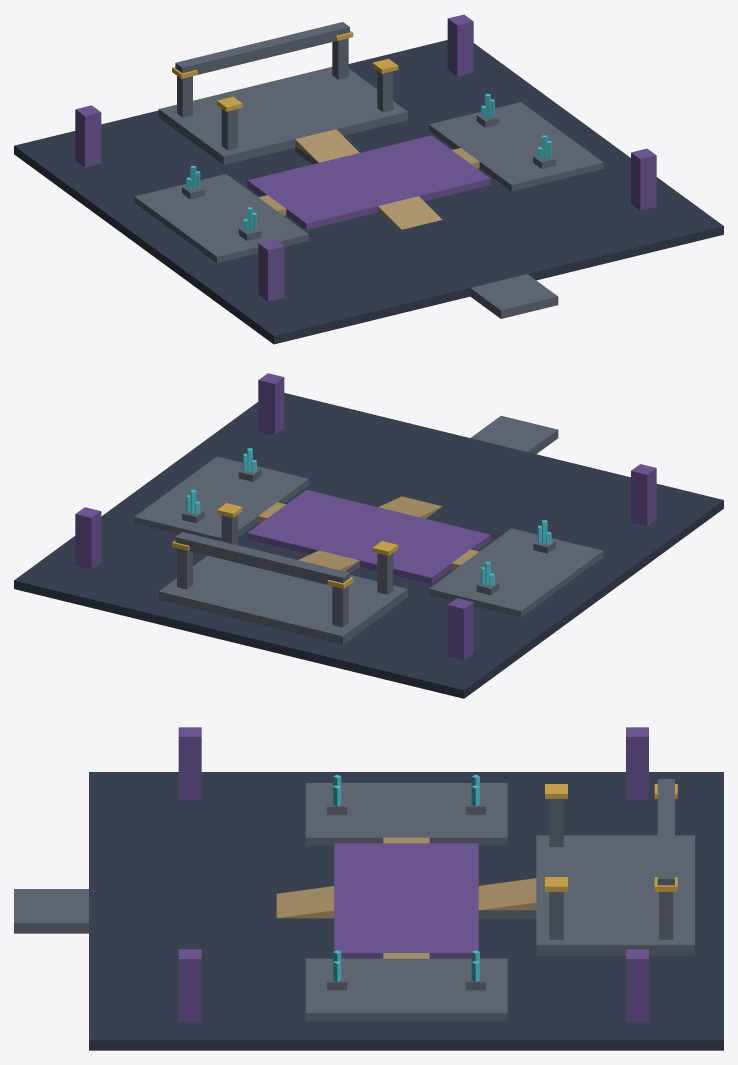
Rendered from Ashen.fbx.
3 renders of one model, top to bottom at view 1: azimuth 30°, elevation 25°; view 2: azimuth 150°, elevation 25°; view 3: azimuth 270°, elevation 25°, orthographic. The views are drawn at different scales.
Visible parts, largest first — view 1: Island, BossSanctum, CentralSanctum, SideCourt.001, SideCourt, WardenArch, Landing, BrokenSpire, BrokenSpire.002, BrokenSpire.001, BrokenSpire.003, SanctumAscent (+5 smaller); view 2: Island, CentralSanctum, BossSanctum, SideCourt, SideCourt.001, WardenArch, Landing, BrokenSpire, BrokenSpire.002, BrokenSpire.003, BrokenSpire.001, SanctumAscent (+4 smaller); view 3: Island, CentralSanctum, BossSanctum, SideCourt.001, SideCourt, Landing, WardenArch, BrokenSpire.001, BrokenSpire.003, SanctumAscent, WardenAscent, BrokenSpire (+5 smaller).
Part boxes in pixels (<box>): Island: <box>14,40,723,344</box>; BossSanctum: <box>158,67,407,164</box>; CentralSanctum: <box>247,135,490,229</box>; SideCourt.001: <box>429,102,603,191</box>; SideCourt: <box>134,174,308,263</box>; WardenArch: <box>175,22,349,74</box>; Landing: <box>470,274,558,318</box>; BrokenSpire: <box>75,105,101,167</box>; BrokenSpire.002: <box>447,14,473,76</box>; BrokenSpire.001: <box>258,239,284,301</box>; BrokenSpire.003: <box>631,148,656,210</box>; SanctumAscent: <box>378,196,442,229</box>; Island: <box>14,393,723,698</box>; CentralSanctum: <box>247,490,490,584</box>; BossSanctum: <box>158,555,407,644</box>; SideCourt: <box>429,528,603,617</box>; SideCourt.001: <box>134,456,308,541</box>; WardenArch: <box>175,532,349,584</box>; Landing: <box>470,415,558,454</box>; BrokenSpire: <box>447,598,473,660</box>; BrokenSpire.002: <box>75,507,101,569</box>; BrokenSpire.003: <box>258,373,284,435</box>; BrokenSpire.001: <box>631,464,656,525</box>; SanctumAscent: <box>378,496,441,518</box>; Island: <box>89,772,723,1050</box>; CentralSanctum: <box>334,843,478,958</box>; BossSanctum: <box>536,835,694,955</box>; SideCourt.001: <box>305,958,507,1021</box>; SideCourt: <box>305,783,507,845</box>; Landing: <box>14,889,88,933</box>; WardenArch: <box>657,779,674,885</box>; BrokenSpire.001: <box>178,727,201,799</box>; BrokenSpire.003: <box>178,949,201,1021</box>; SanctumAscent: <box>276,886,334,918</box>; WardenAscent: <box>478,878,536,910</box>; BrokenSpire: <box>626,727,648,799</box>.
Size of the model in its own units: 22000 by 3350 by 24600.
